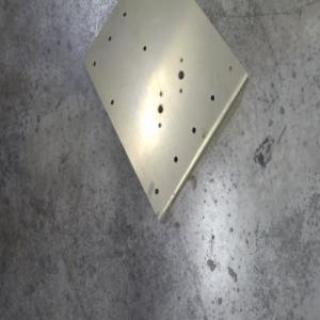MetalSheettrack_idkeyframe: (82, 0, 251, 225)
